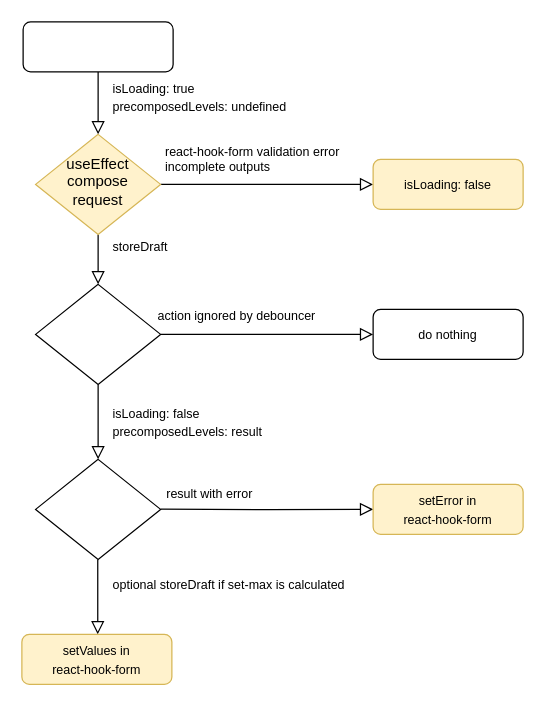
This 545x706 diagram has some shape labels left out. The centre of each missing label's shape, as x and y in pixels:
"async compose action" goes at point 97,333.
"Input change" goes at point 97,46.
"processing results" goes at point 97,508.
